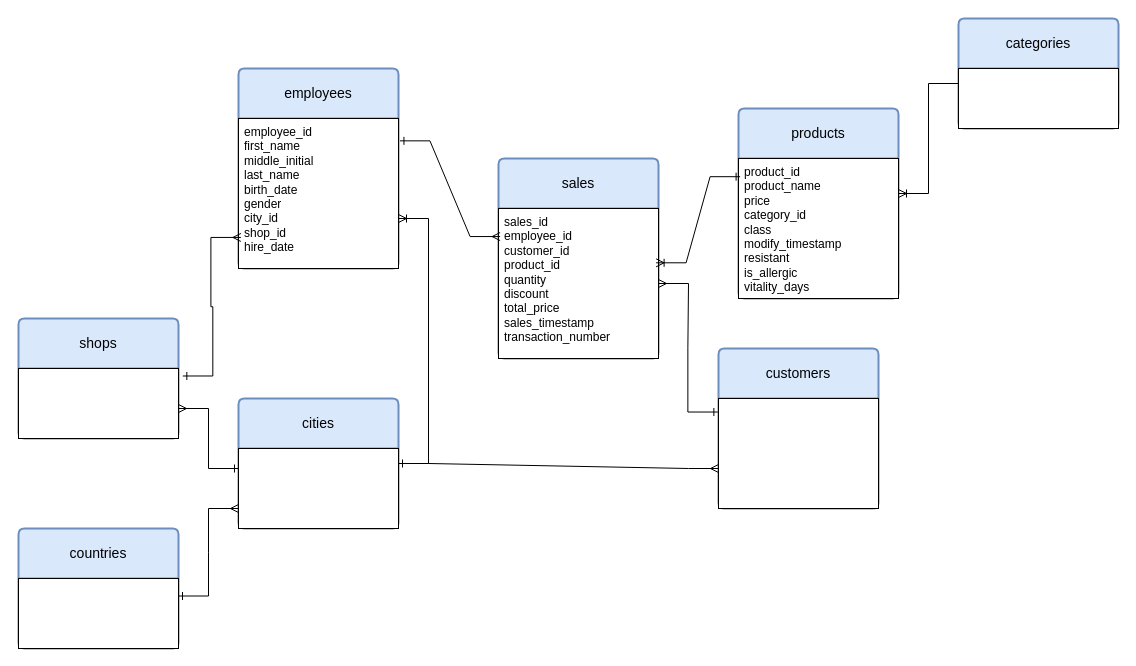
Some shapes in this 1136 by 666 pixel diagram are drawn without their labels. Each missing label, with the centre of its shape:
"category_id category_name" goes at point 1038,98.
"city_id city_name zipcode country_id" goes at point 318,488.
"country_id country_name country_code" goes at point 98,613.
"customer_id first_name middle_initial last_name city_id address" goes at point 798,453.
"shop_id city_id address" goes at point 98,403.
